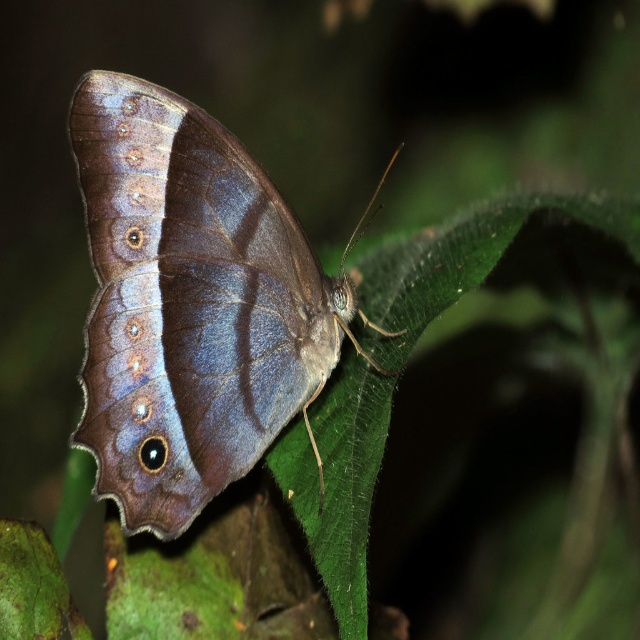Butterfly: (65, 55, 420, 566)
